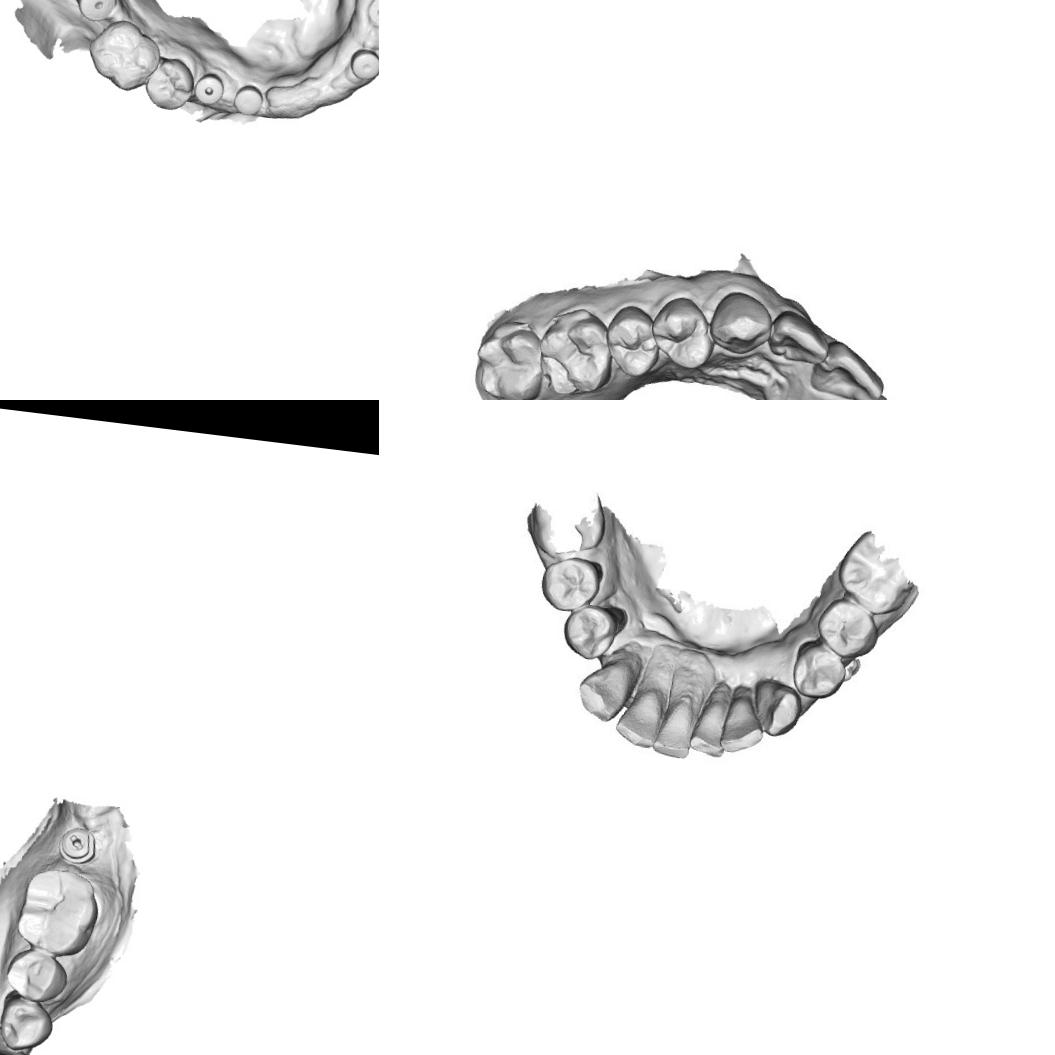canine: (706, 286, 776, 360), (574, 654, 633, 720), (754, 681, 805, 741), (0, 1022, 37, 1055)
implant: (191, 70, 227, 107), (346, 46, 379, 84), (231, 82, 265, 118), (74, 0, 119, 24), (363, 0, 379, 29)
implant_minus: (59, 824, 98, 867)
incisor: (807, 334, 891, 400), (764, 307, 834, 367), (614, 675, 667, 749), (652, 681, 698, 757), (690, 682, 732, 753), (720, 687, 765, 752)
molar: (11, 864, 103, 960), (531, 303, 620, 400), (829, 524, 917, 618), (469, 321, 550, 400)
premolar: (82, 15, 164, 96), (646, 292, 718, 374), (600, 301, 665, 382), (817, 597, 880, 660), (1, 946, 69, 1004), (541, 553, 601, 615), (0, 992, 57, 1054), (142, 55, 198, 114), (792, 637, 848, 696), (566, 604, 618, 662)
